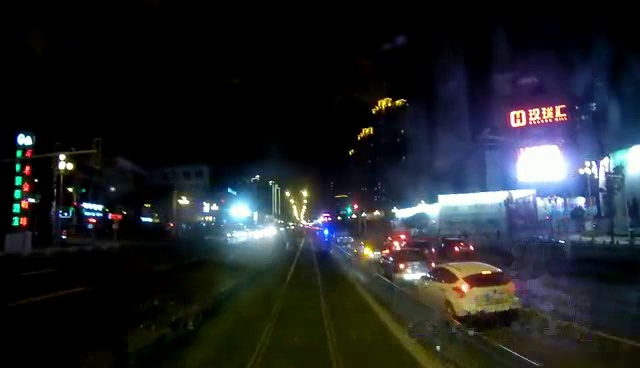car: (415, 261, 520, 319), (383, 251, 435, 284), (400, 236, 438, 264), (353, 238, 395, 263), (440, 234, 476, 259)
